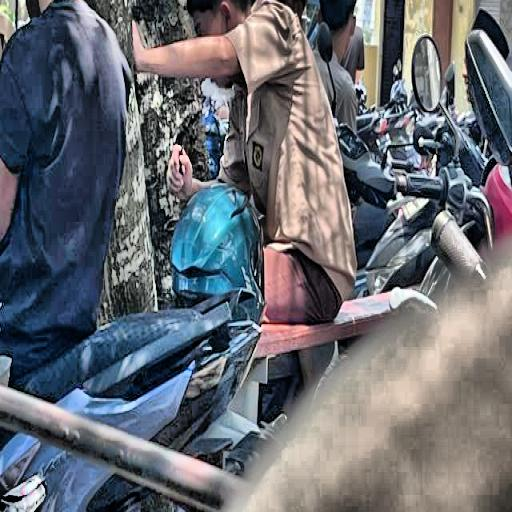Merokok: (201, 77, 227, 100)
